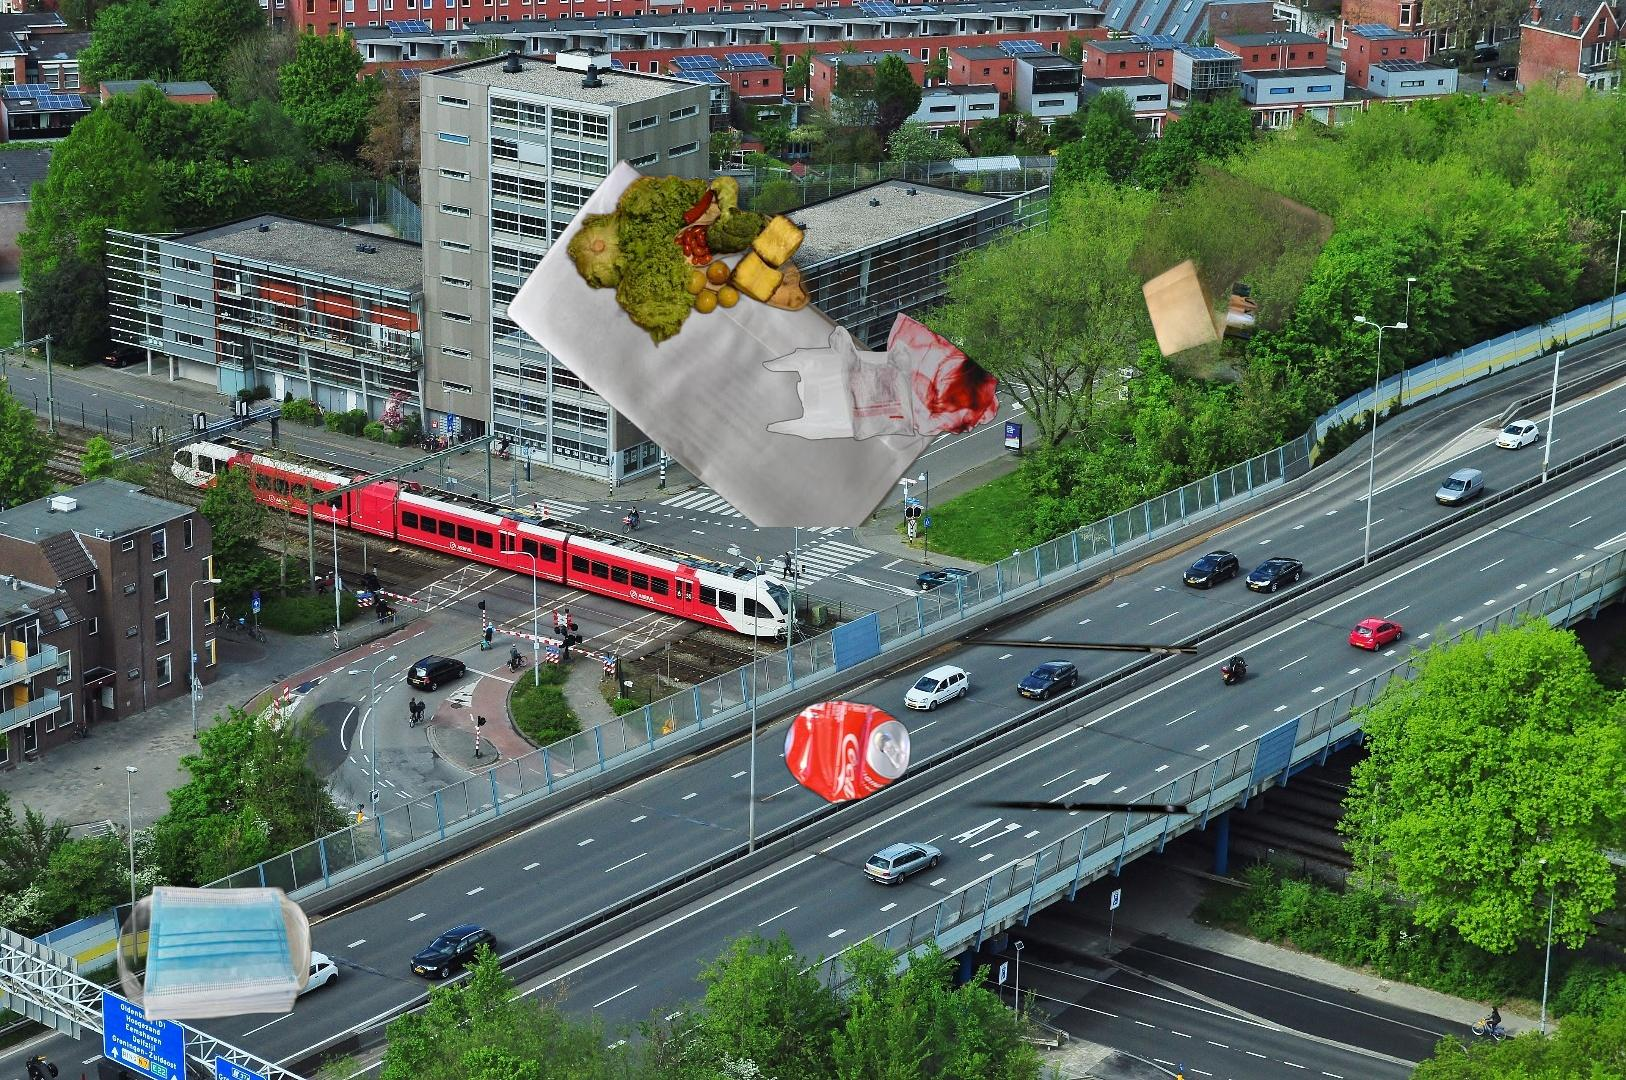biological: (558, 174, 830, 351)
metal-cans: (685, 554, 1197, 932)
paper: (501, 155, 961, 527)
paper-bag: (1116, 136, 1354, 416)
penholder: (193, 1025, 1193, 1080)
plastic-bag: (762, 310, 1002, 444)
trash: (117, 882, 316, 1025)
